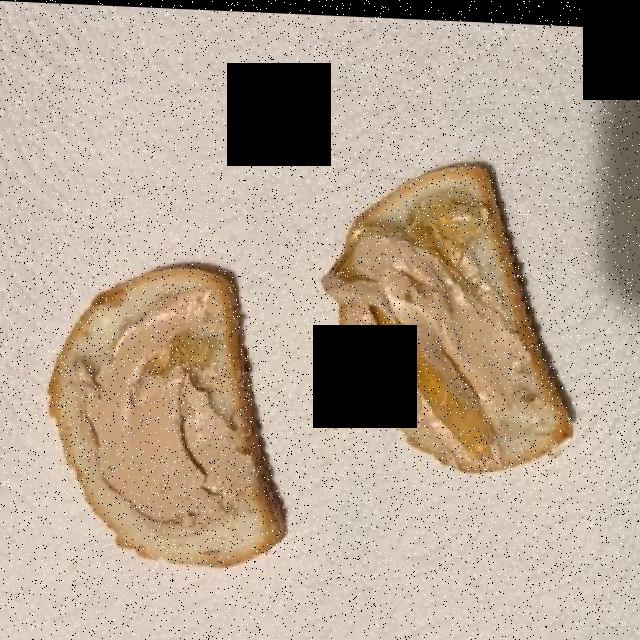bread-white: (42, 162, 593, 554)
meat-terrine-pate: (67, 180, 549, 534)
